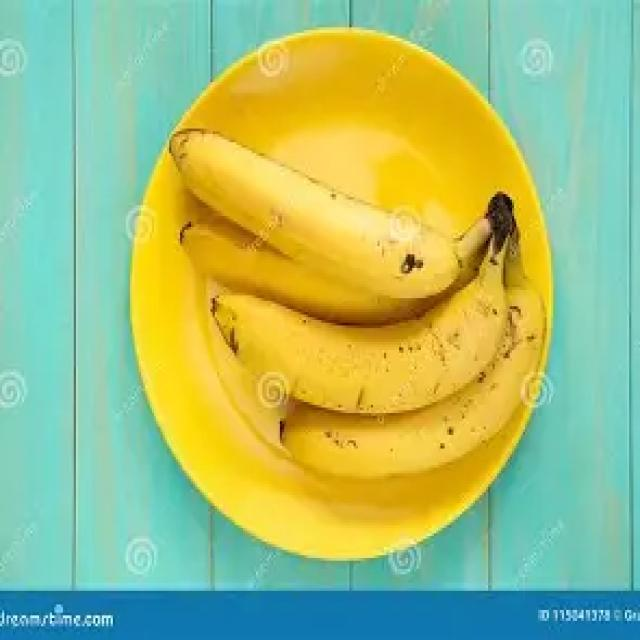BANANA: (166, 126, 547, 486)
